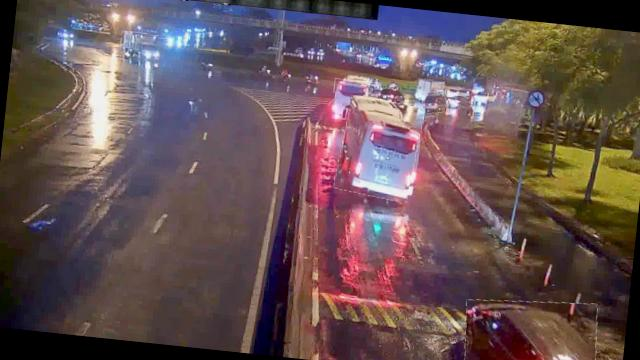Bus: (335, 94, 424, 202), (332, 78, 378, 112)
Car: (461, 293, 600, 360), (420, 90, 447, 115)
Truck: (119, 31, 159, 64)
